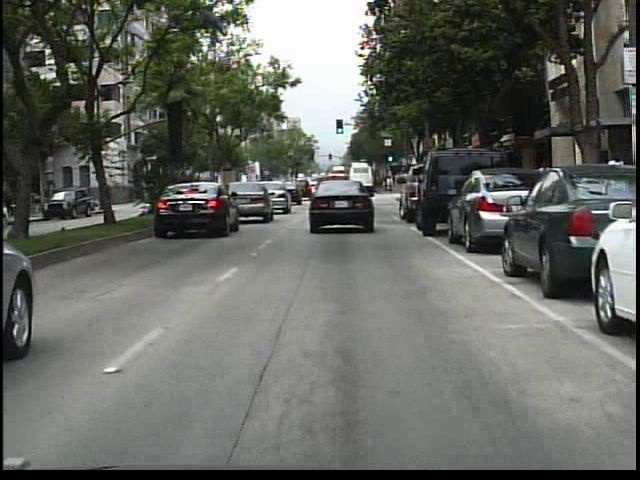person: (602, 150, 630, 229), (534, 157, 555, 214)
